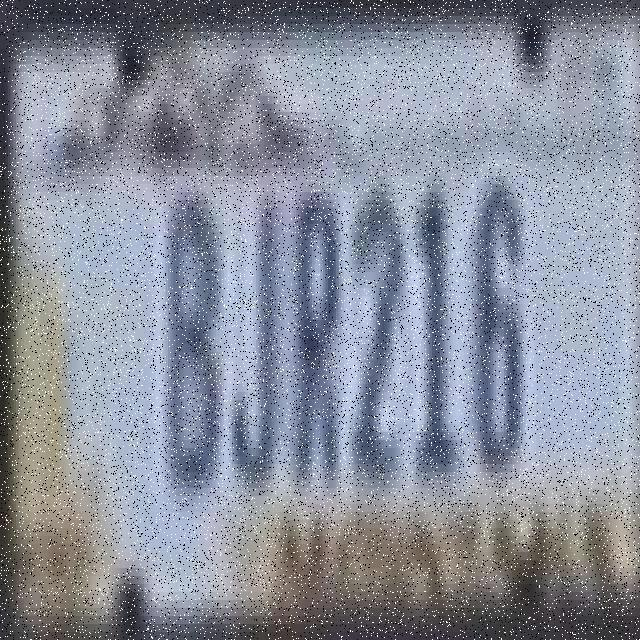LicensePlate: (87, 165, 585, 523)
